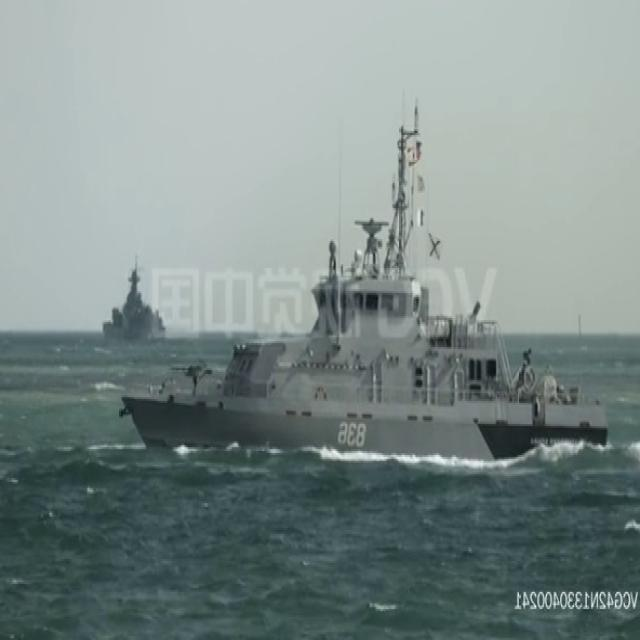navalvessels: (124, 128, 612, 468), (101, 263, 168, 338)
